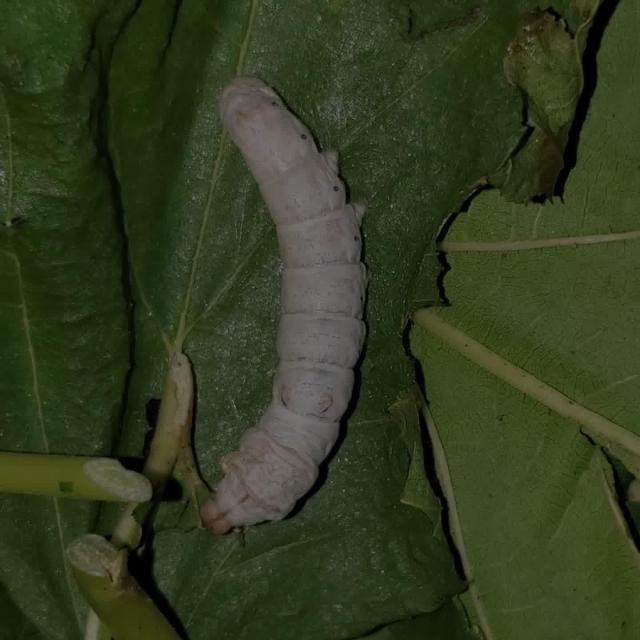Healthy: (181, 57, 418, 541)
